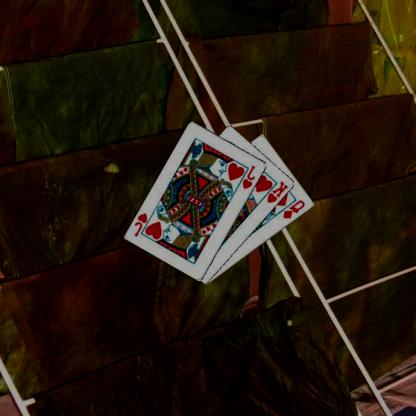JH: (134, 210, 150, 238), (242, 163, 258, 190)
KH: (267, 178, 291, 204)
QD: (282, 198, 308, 219)
